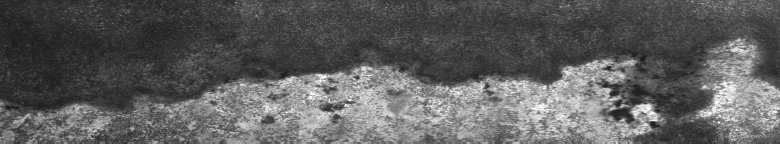kb: (188, 4, 640, 136)
